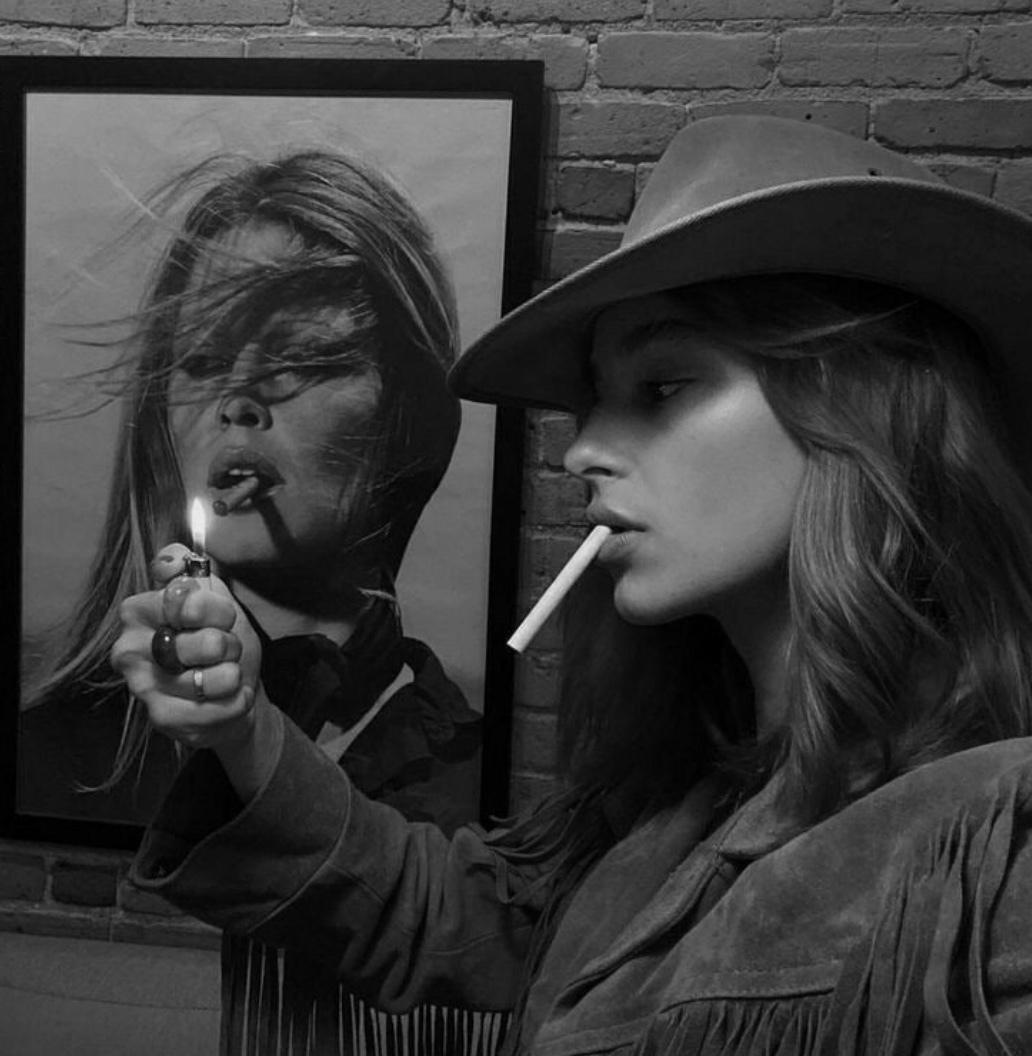cigarette: (506, 524, 611, 655)
